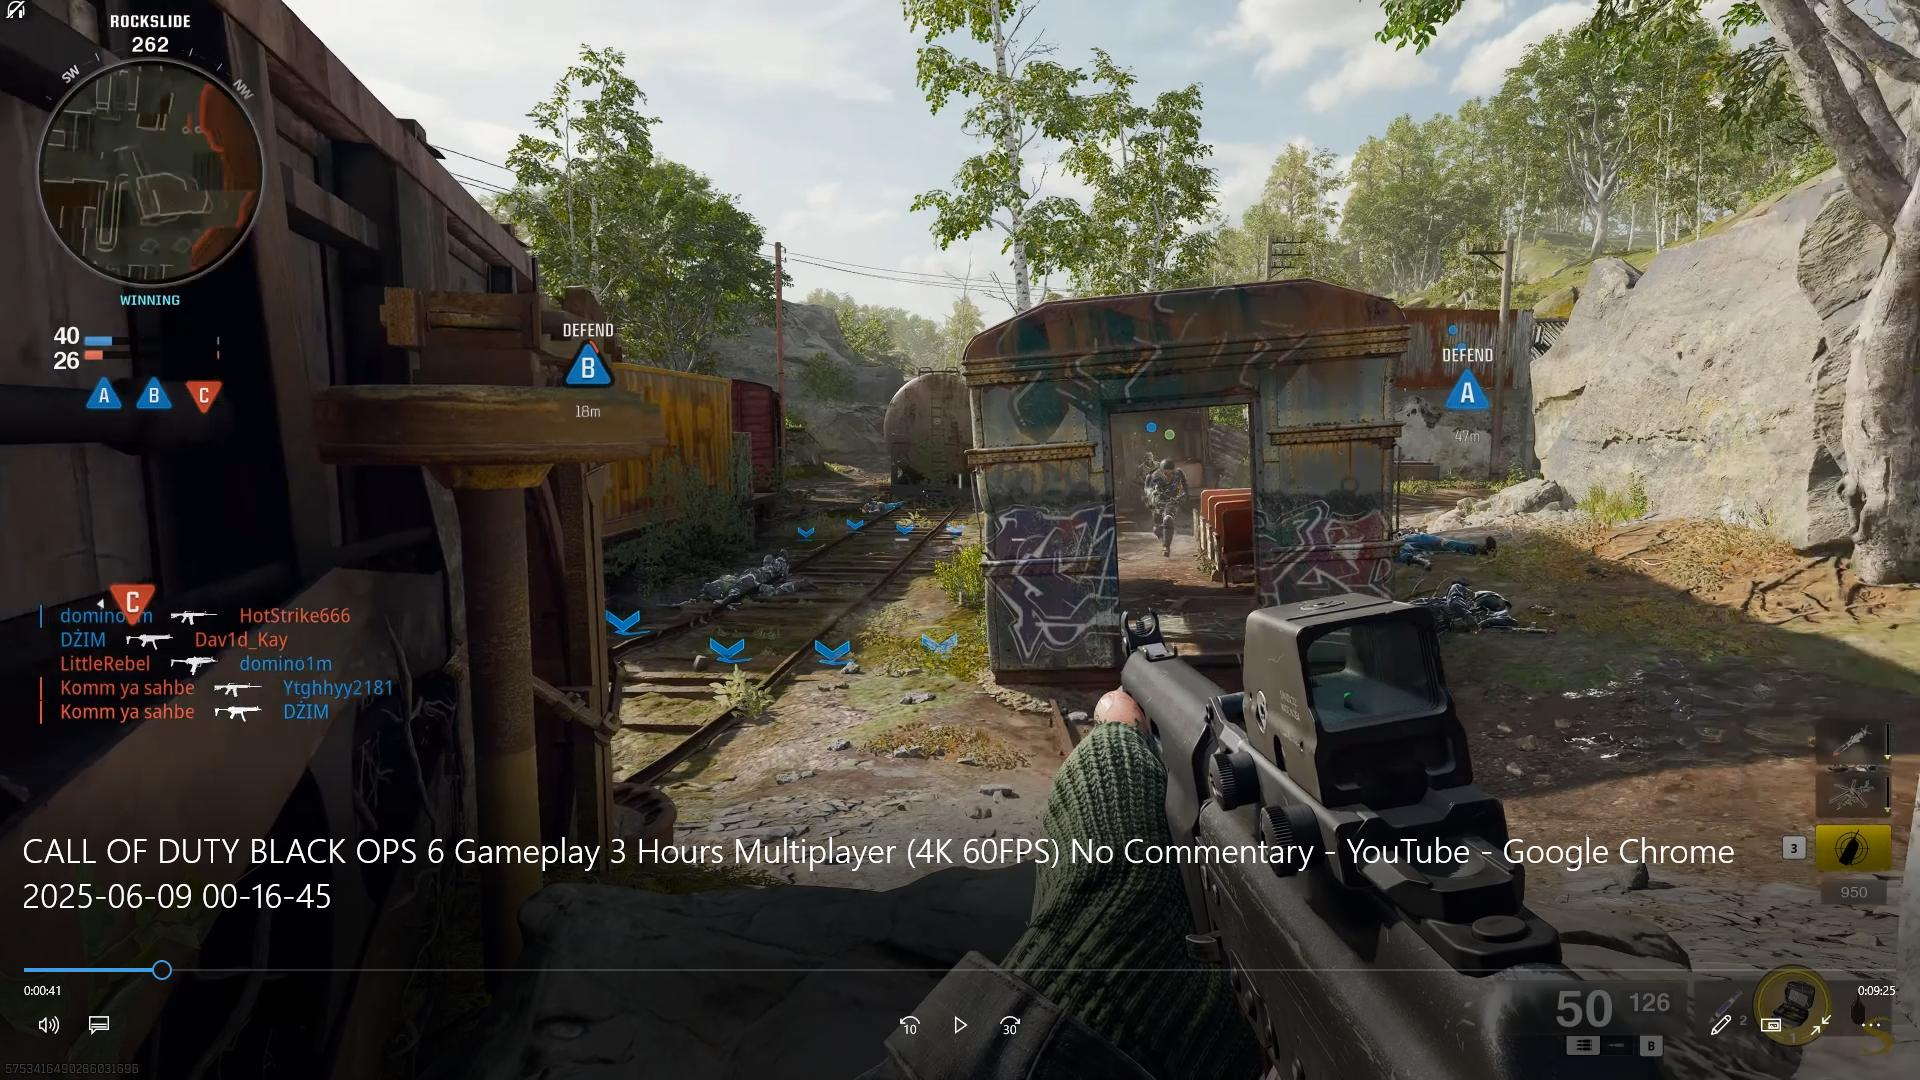Enemy: (1153, 459, 1187, 551)
